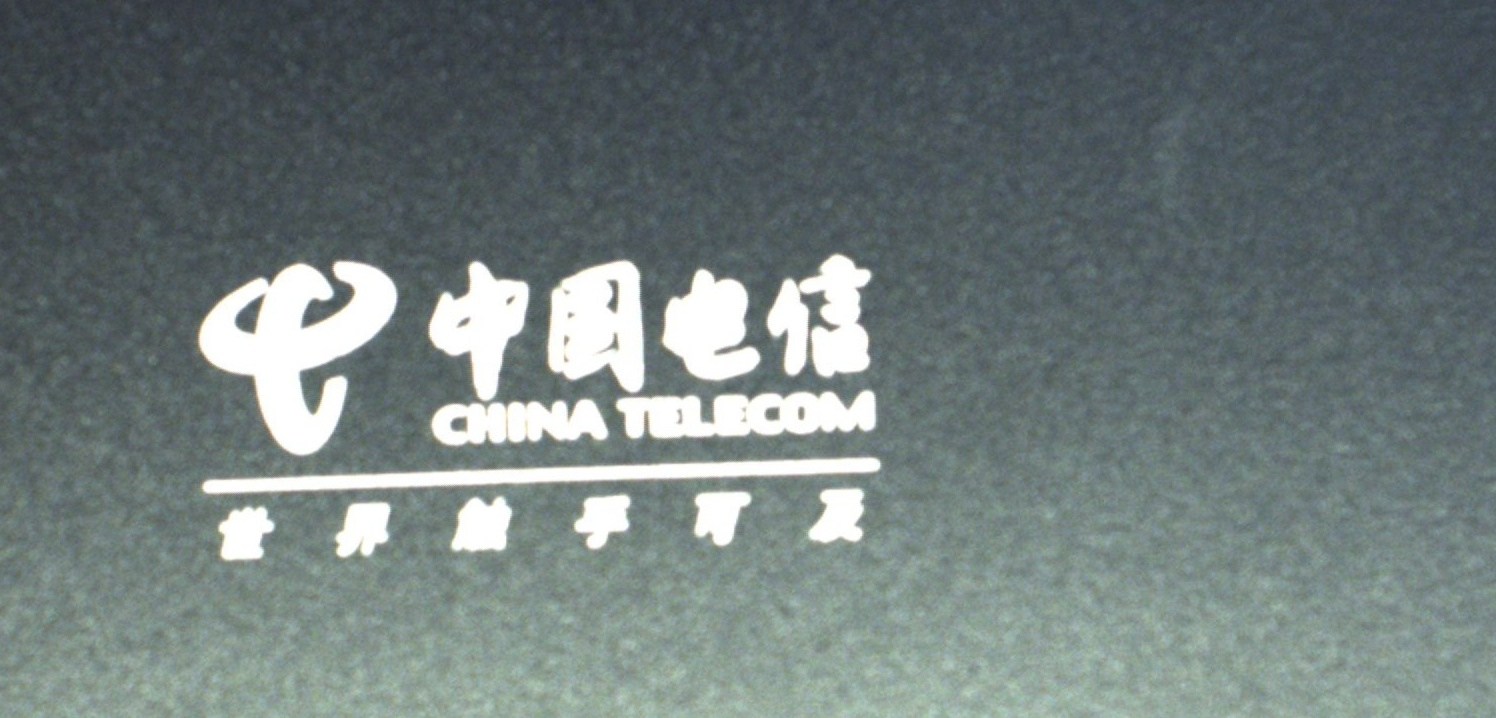AB_ChinaTelecom: (173, 251, 883, 563)
